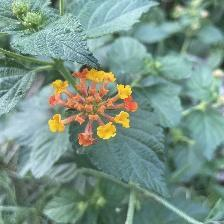common lanthana: (47, 65, 140, 148)
